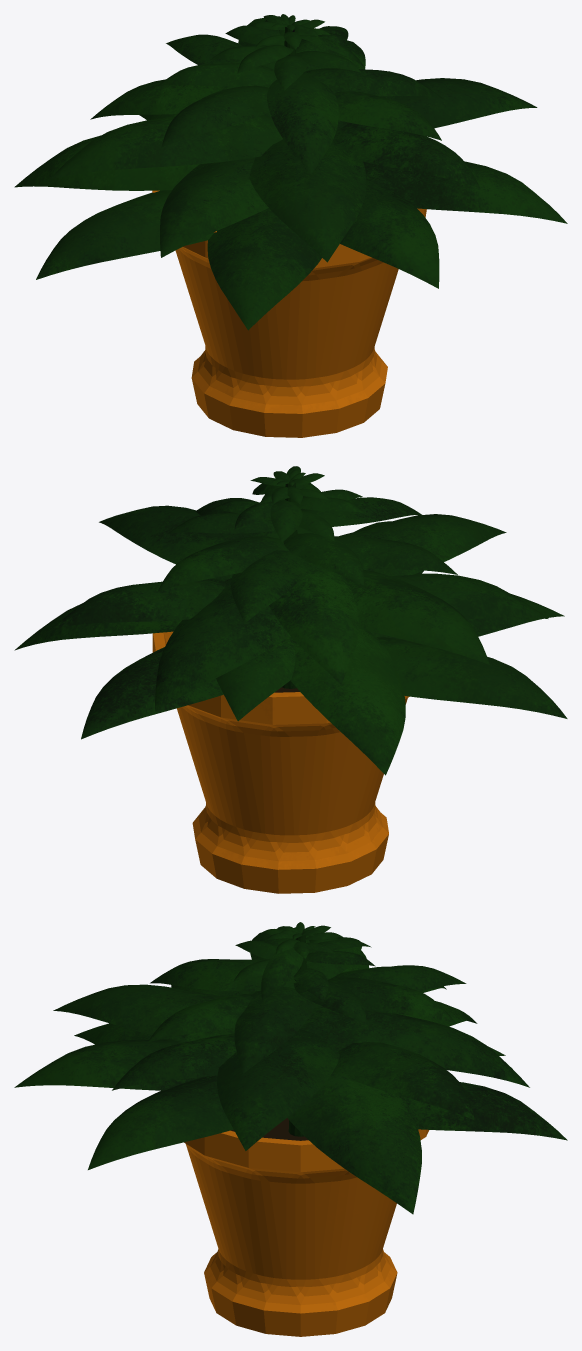
Rendered from Potted_Plant_L.glb.
3 views of the same model, one above another, from view 1: azimuth 30°, elevation 25°; view 2: azimuth 150°, elevation 25°; view 3: azimuth 270°, elevation 25° (orthographic). The views are drawn at different scales.
Visible parts, largest first — view 1: Plane.105; view 2: Plane.105; view 3: Plane.105.
Part boxes in pixels (box(x1,y1,x2,y2)): Plane.105: box(14, 14, 567, 437); Plane.105: box(14, 466, 567, 893); Plane.105: box(14, 922, 567, 1336).
Bounding box in the file's own units: 0.7135 × 0.5298 × 0.721.
1 material, 1 textured.
